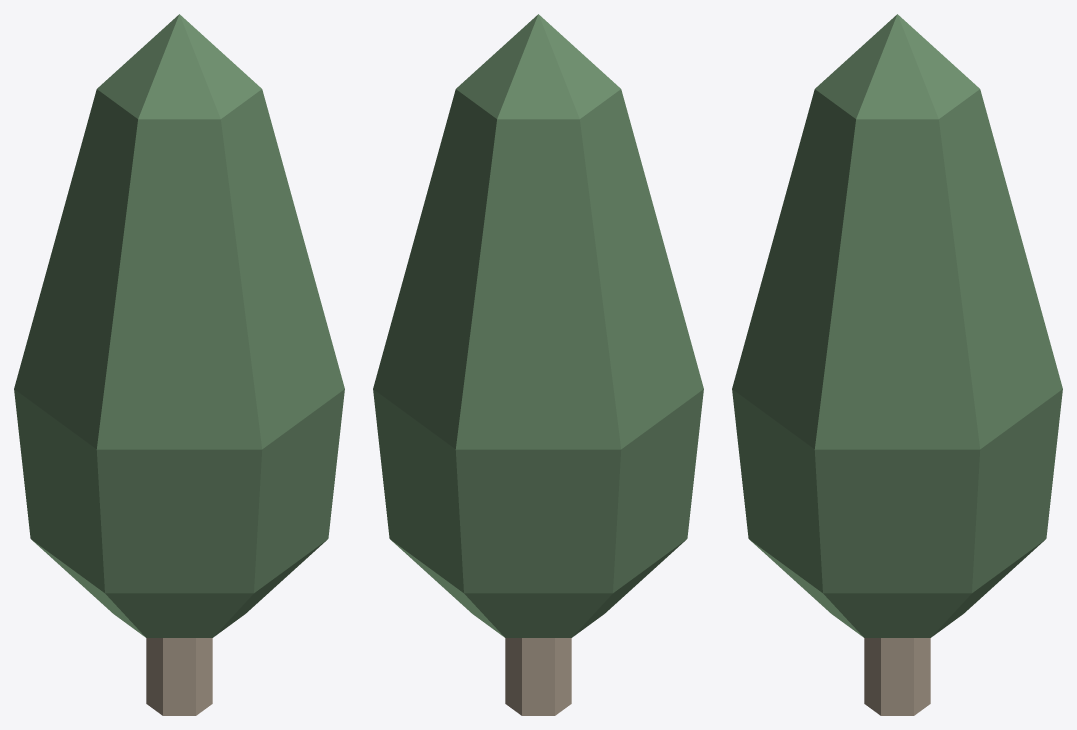
File: Prop_Tree_Cedar_2.glb
3 renders of one model, left to right at view 1: azimuth 30°, elevation 25°; view 2: azimuth 150°, elevation 25°; view 3: azimuth 270°, elevation 25°, orthographic.
Visible parts, largest first — view 1: Node; view 2: Node; view 3: Node.
Part boxes in pixels (<box>): Node: <box>14,14,344,715</box>; Node: <box>373,14,703,715</box>; Node: <box>732,14,1062,715</box>.
Size of what is drawn, in the model's own units: 0.866 by 2.3 by 1.
